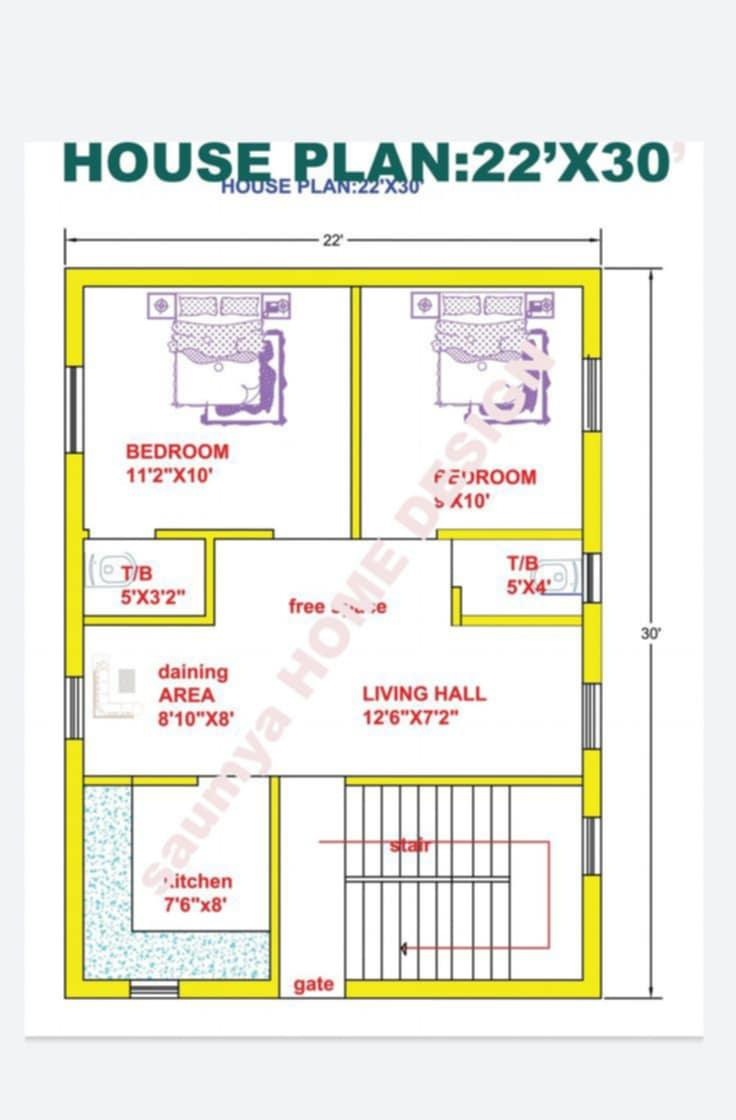Blueprint: (50, 256, 617, 1007)
